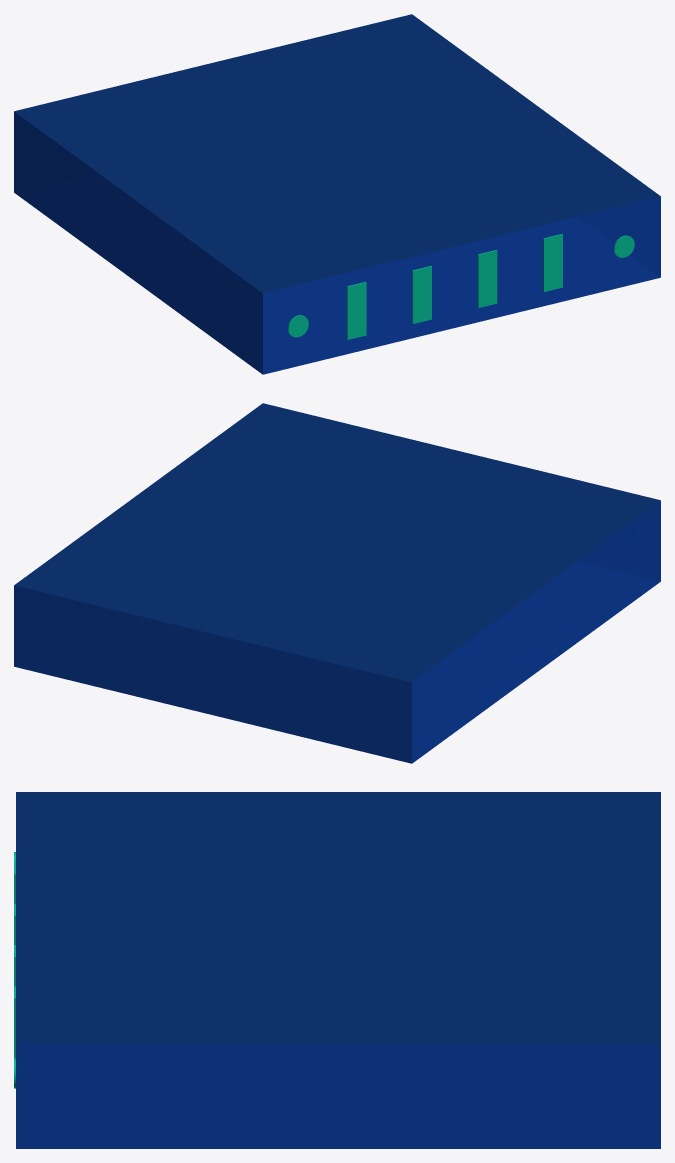
Rendered from safe.FBX.
The picture shows the model from 3 angles, top to bottom: view 1: azimuth 30°, elevation 25°; view 2: azimuth 150°, elevation 25°; view 3: azimuth 270°, elevation 25°; orthographic projection. The views are drawn at different scales.
Visible parts, largest first — view 1: 对象419, Box279, Box282, Box280, Box283, Box281; view 2: 对象419, Box279; view 3: 对象419, Box279.
Part boxes in pixels (x1=…): 对象419: x1=14, y1=14, x2=660, y2=293; Box279: x1=14, y1=111, x2=660, y2=374; Box282: x1=477, y1=250, x2=497, y2=307; Box280: x1=347, y1=282, x2=366, y2=339; Box283: x1=543, y1=234, x2=562, y2=291; Box281: x1=412, y1=266, x2=431, y2=323; 对象419: x1=14, y1=403, x2=660, y2=682; Box279: x1=14, y1=500, x2=660, y2=763; 对象419: x1=16, y1=792, x2=660, y2=1043; Box279: x1=16, y1=1043, x2=660, y2=1148.
Size of the model in its own units: 564 by 110 by 613.
